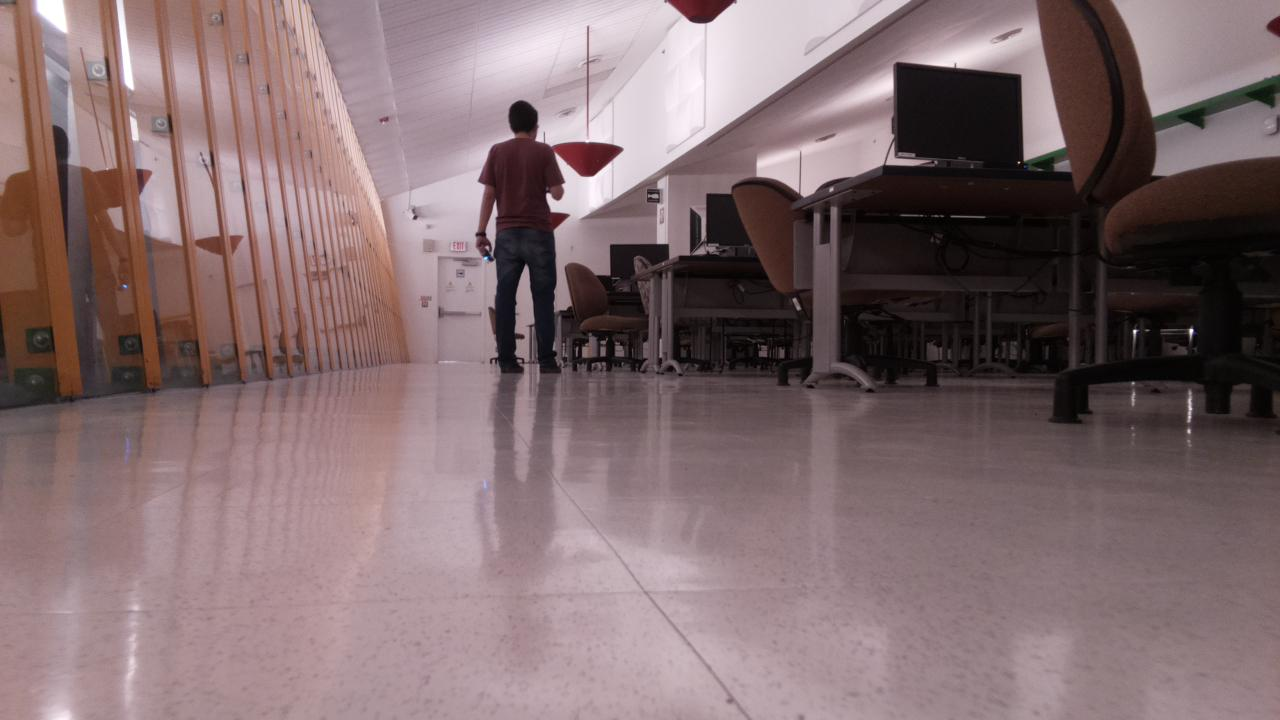door: (437, 258, 481, 361)
person: (474, 100, 564, 373)
sign: (647, 188, 660, 202), (450, 241, 465, 250)
tvmonitor: (897, 63, 1023, 162), (707, 193, 754, 246), (610, 244, 669, 277)
